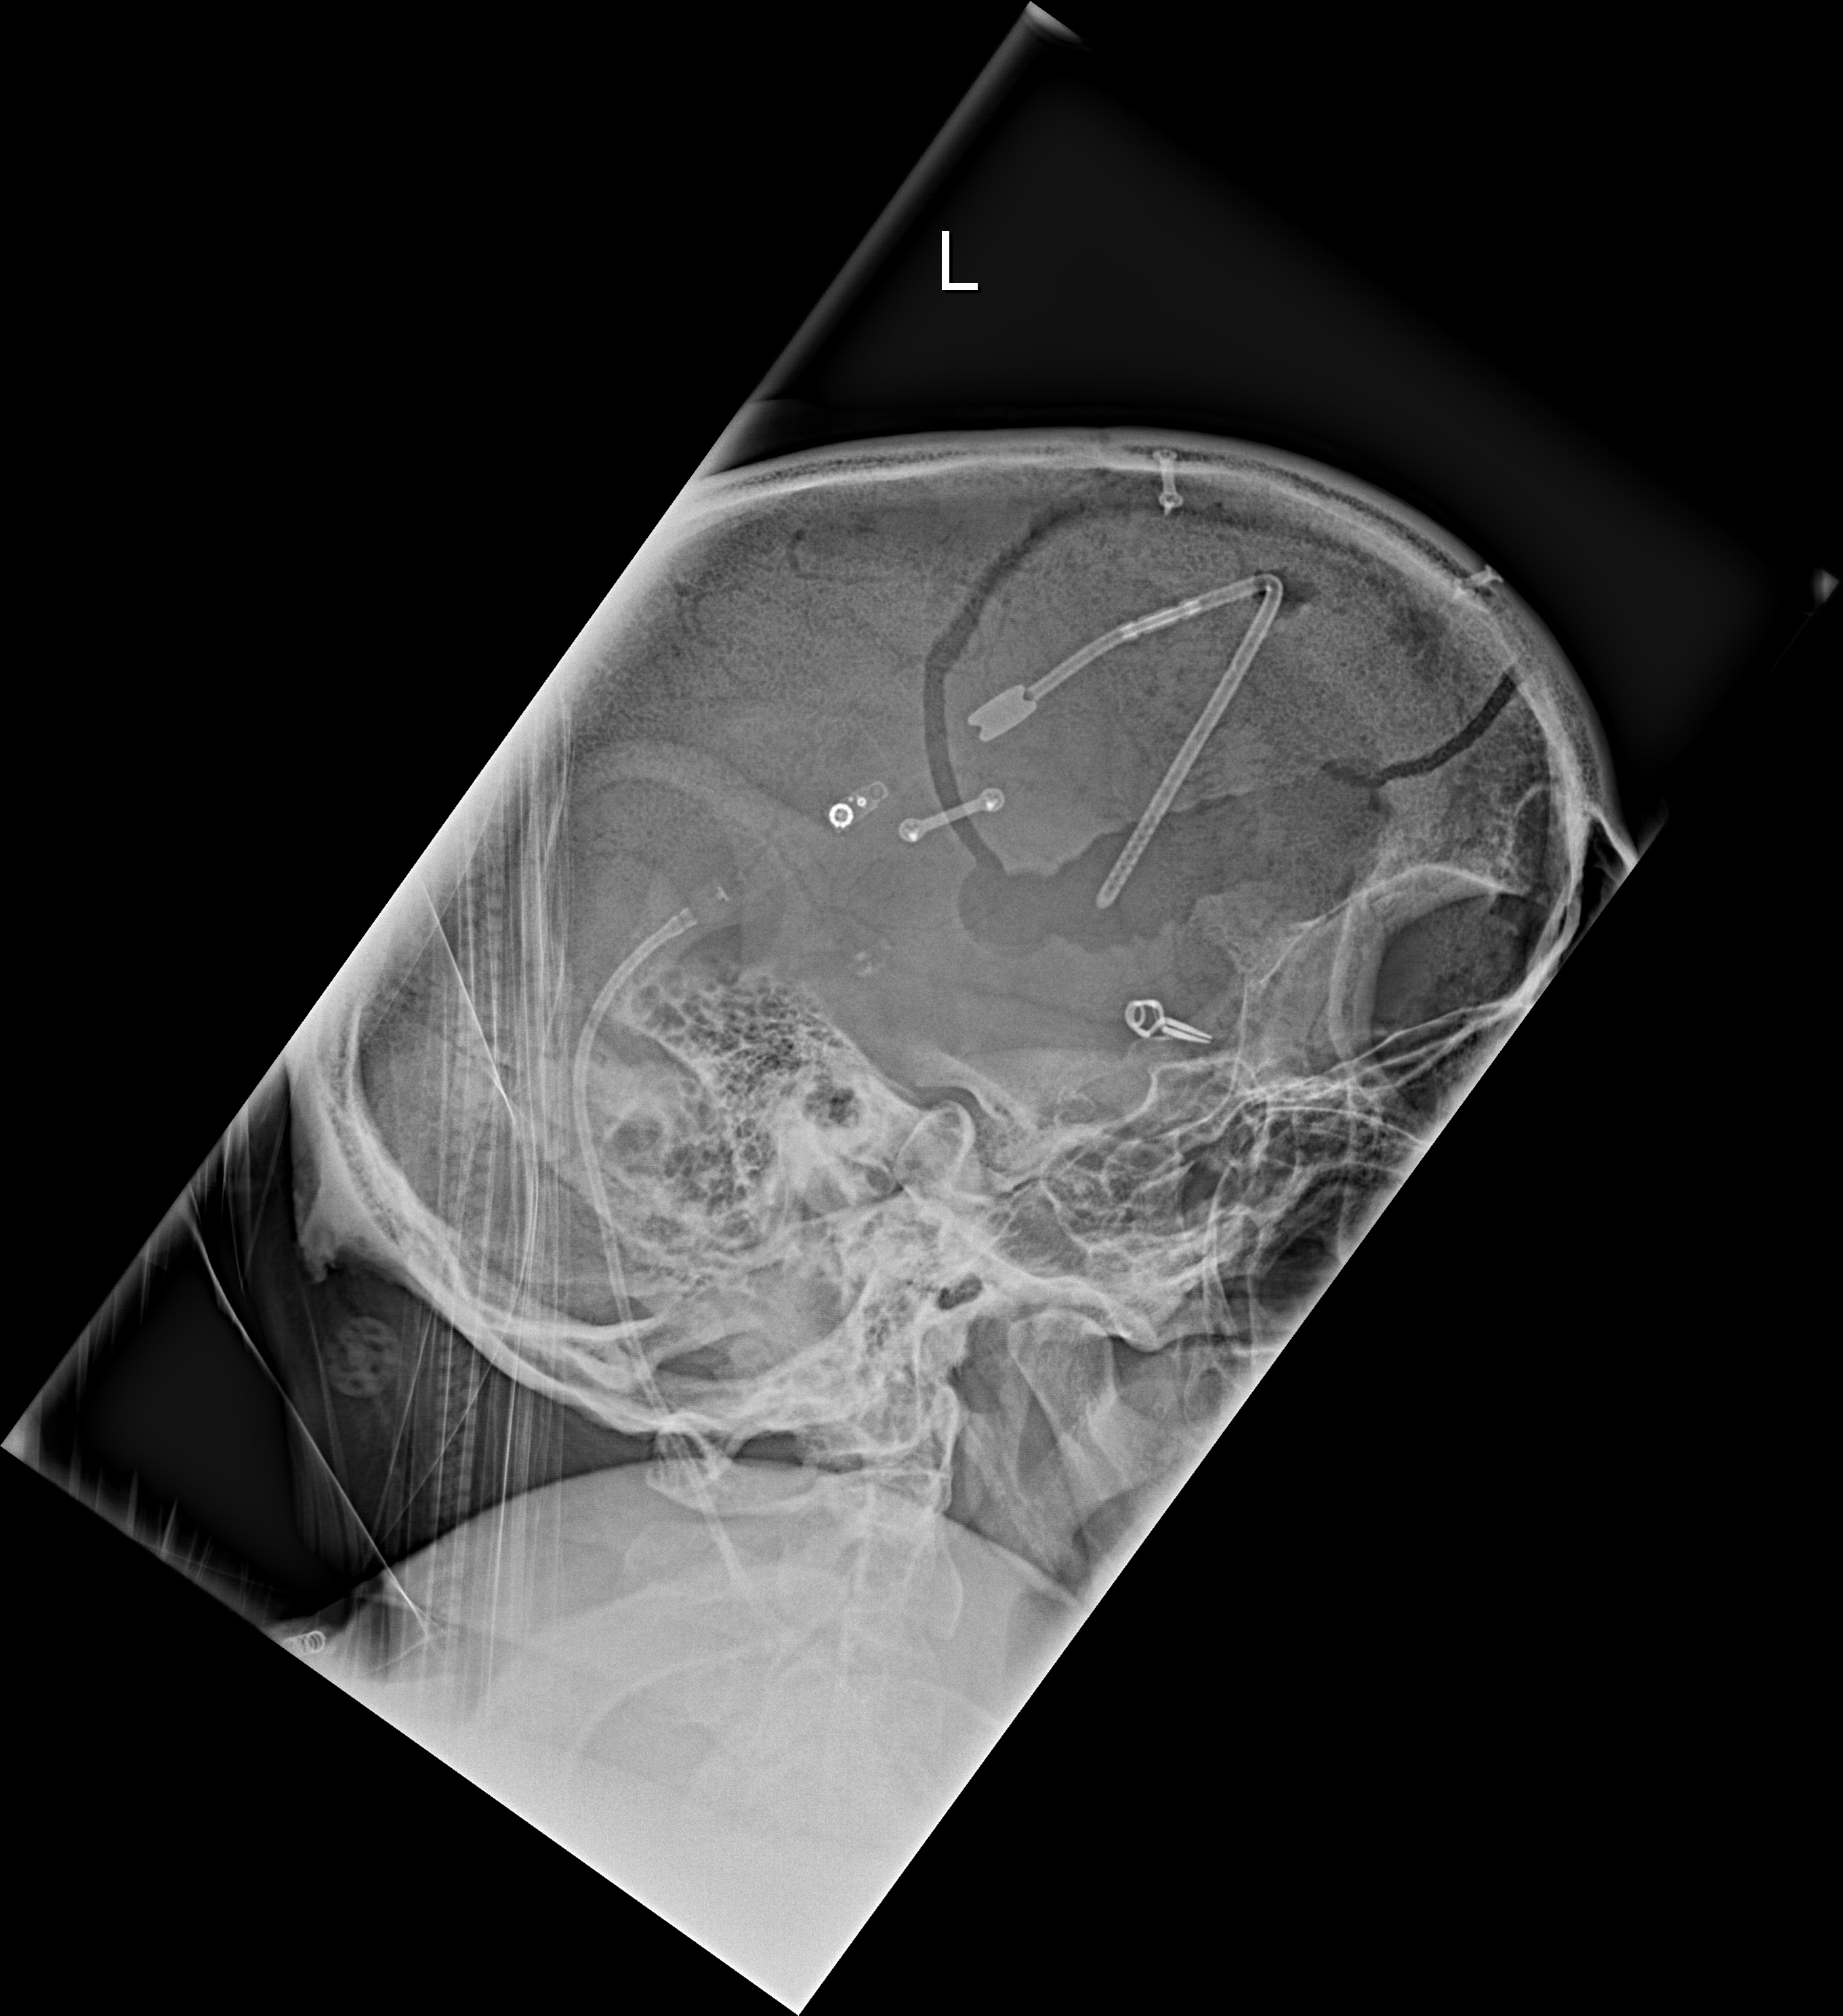Codman Hakim: (824, 780, 882, 839)
